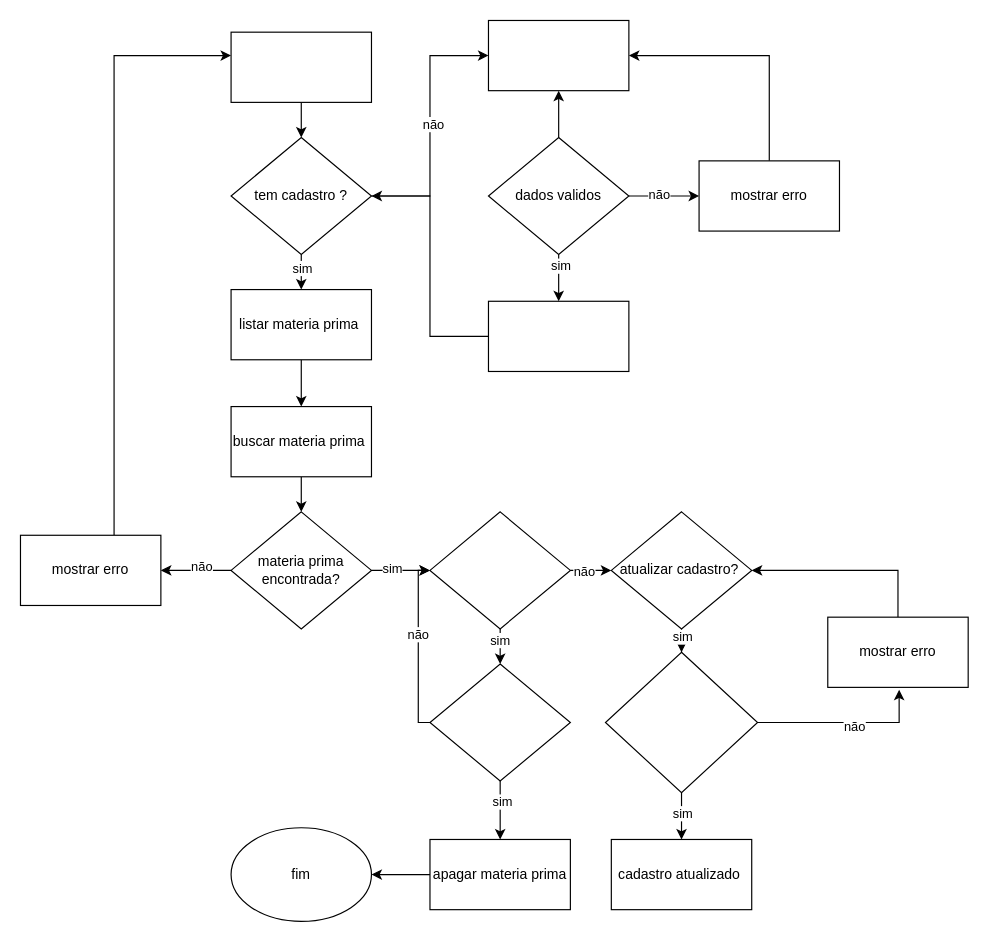
This 989x942 diagram has some shape labels left out. Each missing label, with the centre of its shape:
apagar?: (499,570)
cadastrar materia prima: (558,55)
cadastro realizado: (558,335)
confirmar?: (499,722)
dados são validos?: (681,722)
materia prima: (300,66)
